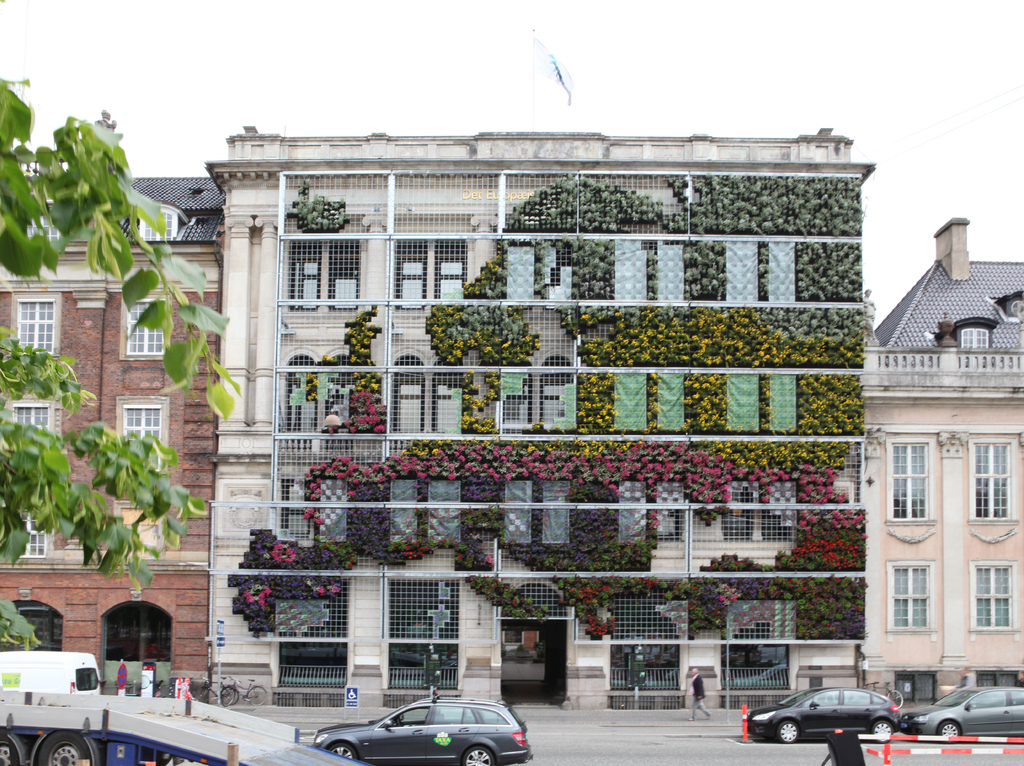Car: (308, 698, 532, 765), (746, 686, 896, 745), (896, 686, 1023, 745)
